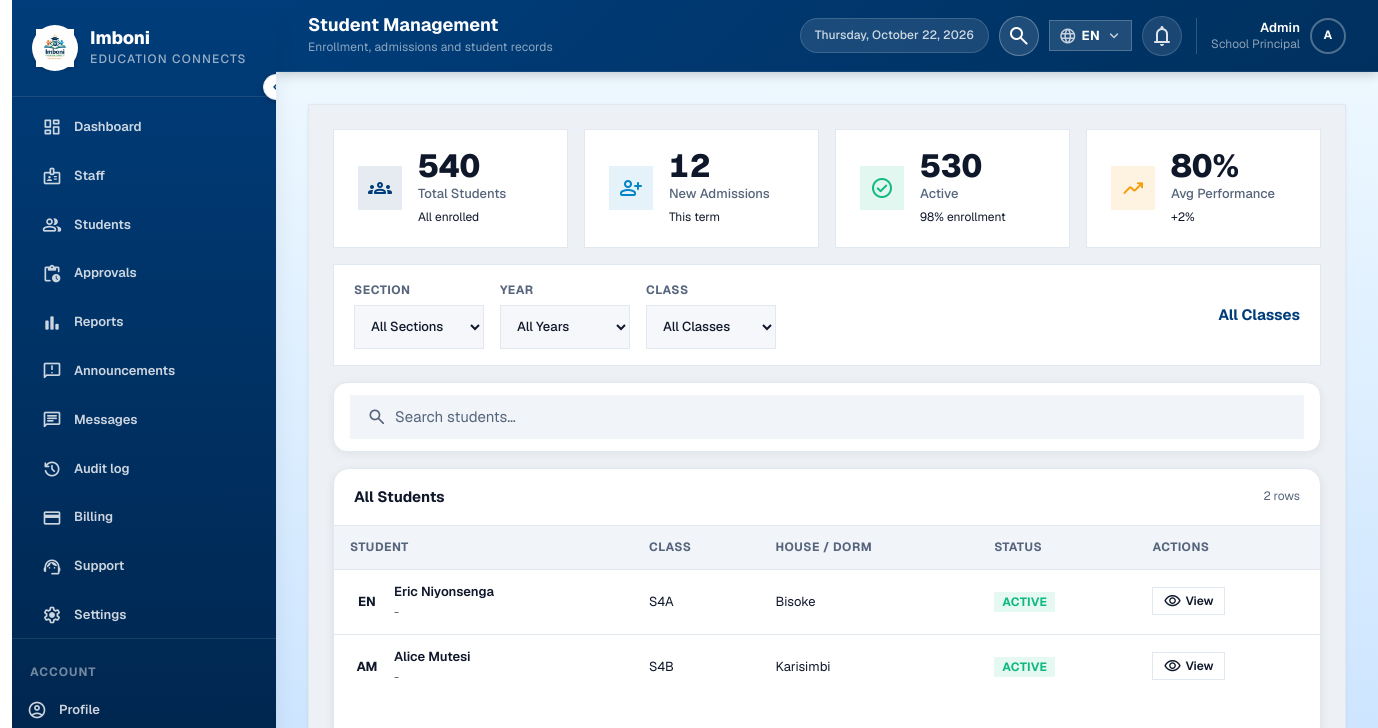
Test: AdminStudents › shows the empty state when the server finds no student
The image size is (1378, 728).
Check: the text "Eric Niyonsenga" is shown, box [394,582,494,603]
Step 1. Type "nonexistent-xyz" into the search field with placeholder "Search students…" → x=841, y=417, box [395,396,1287,438]
(page scrolled)
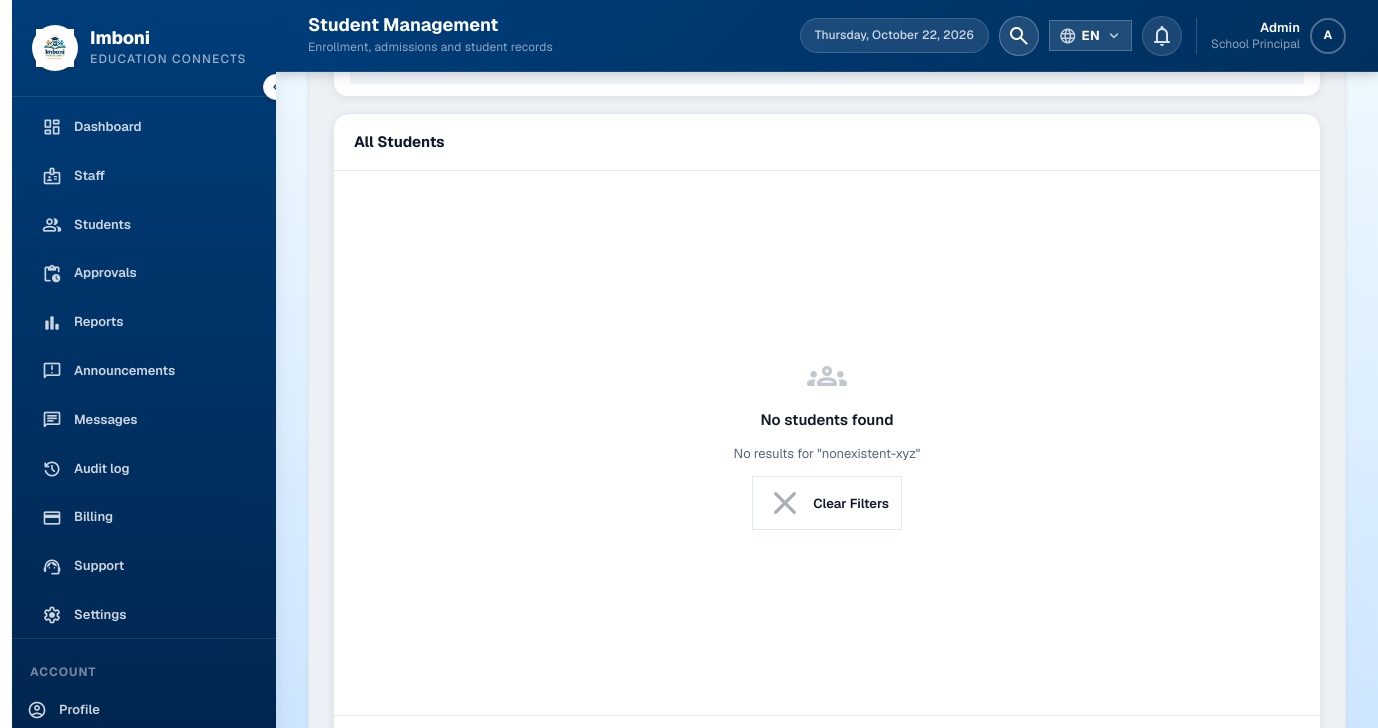
Check: the text "No students found" is shown, box [760,408,893,432]
